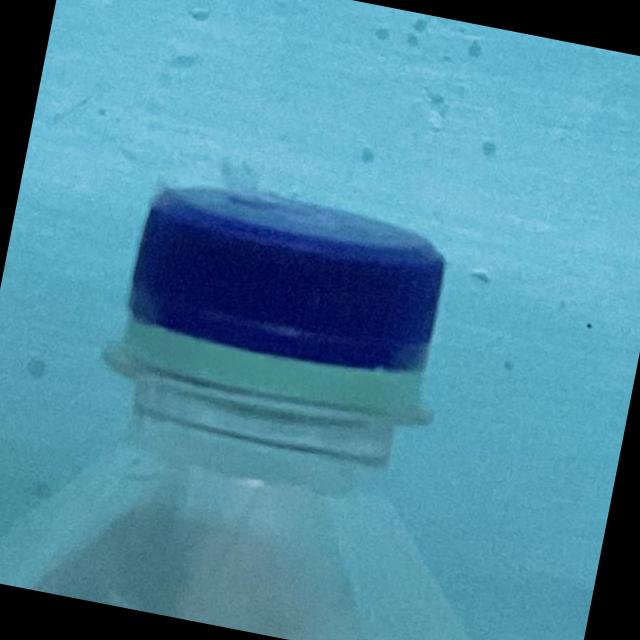Good-cap-Df0S: (84, 151, 492, 461)
